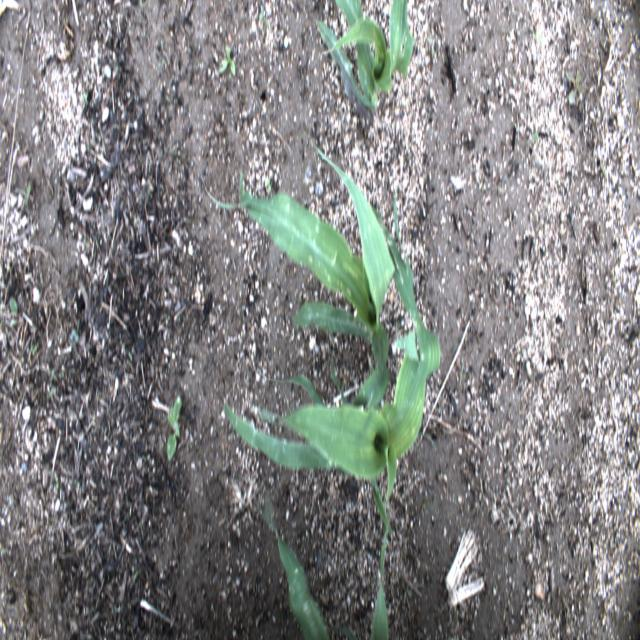crop: (224, 188, 441, 520), (202, 143, 394, 408), (275, 480, 392, 638), (314, 0, 414, 118)
weed: (166, 396, 182, 461), (565, 70, 586, 108), (219, 44, 236, 76), (16, 179, 34, 207), (9, 296, 18, 330), (54, 472, 60, 492), (265, 176, 272, 193)
